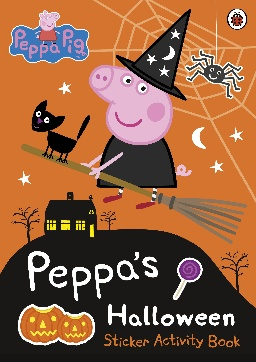Peppa: (87, 9, 194, 210)
